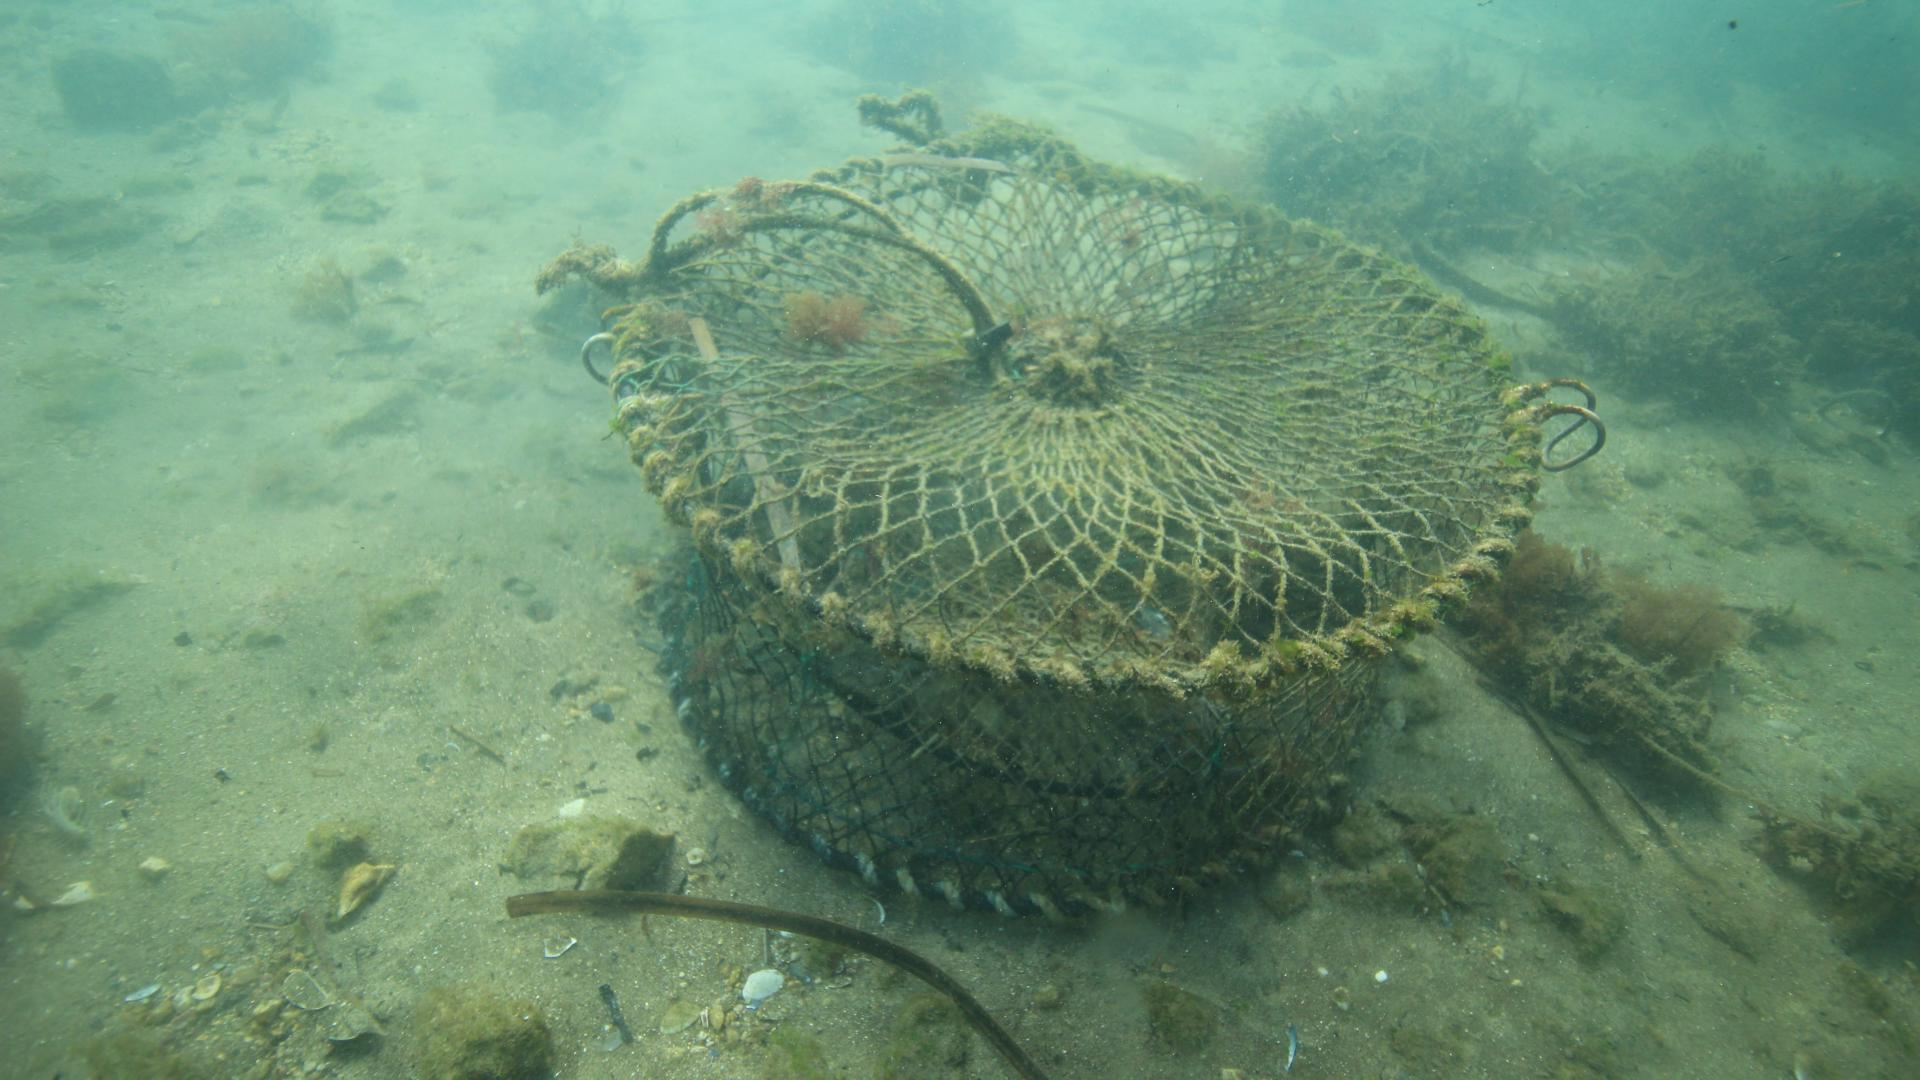circular fish trap: (607, 127, 1542, 920)
